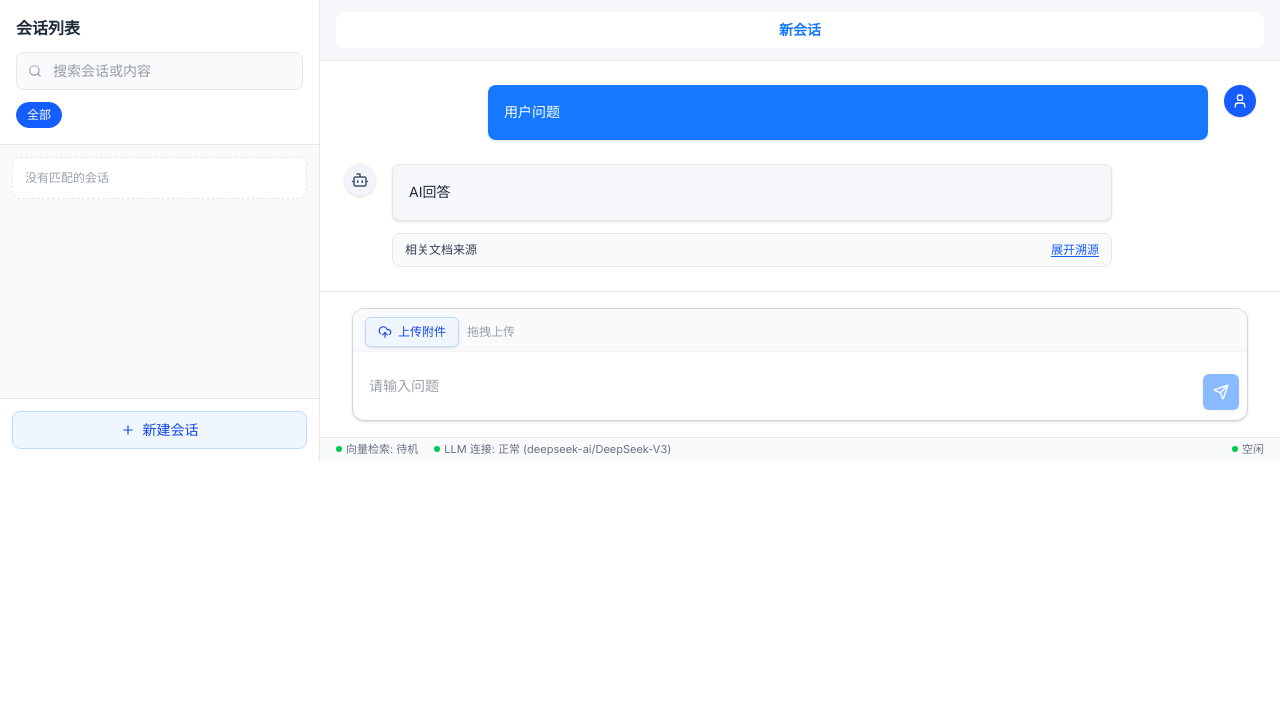
it: QAPagePanel › renders collapsible sources only for assistant messages
Expected: the text "销售报表.xlsx-第1分块" is not shown
Step 1. Click the button "展开溯源" → (1075, 250), box [1051, 242, 1099, 258]
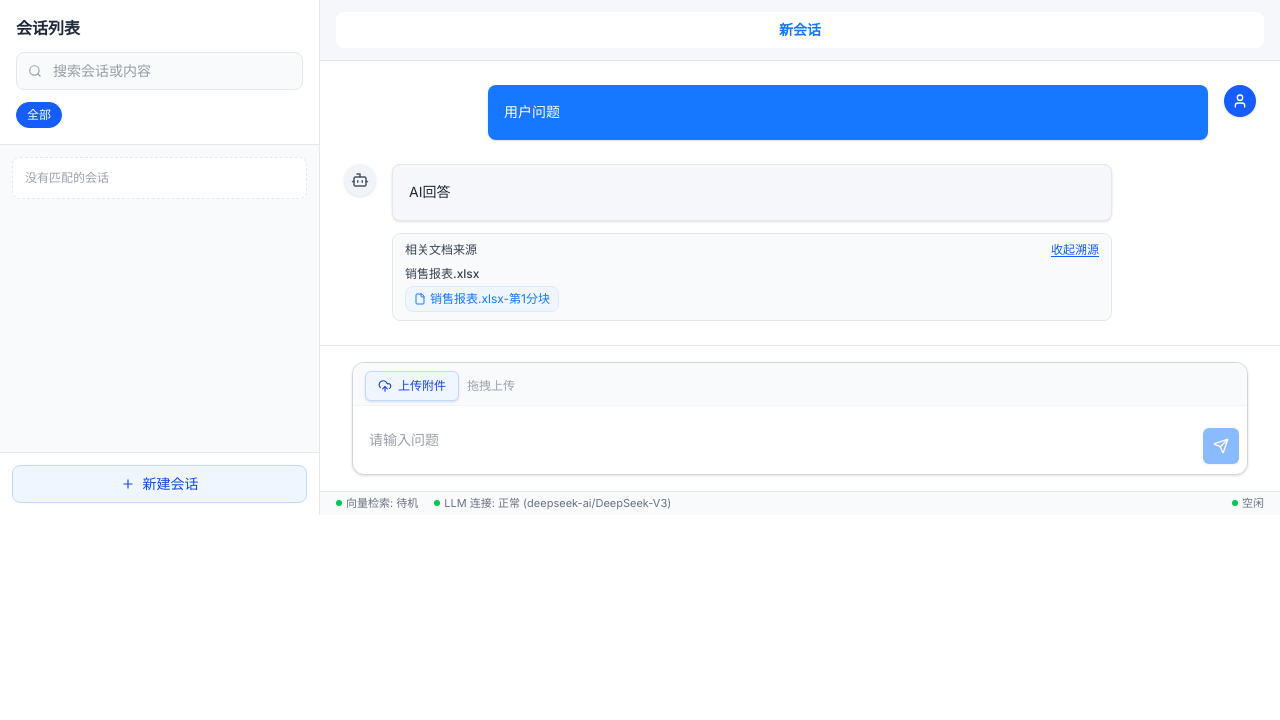
Expected: the button "销售报表.xlsx-第1分块" is shown, [405, 286, 559, 312]
